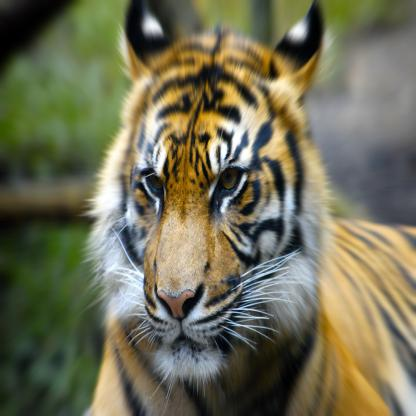tiger: (79, 21, 322, 347)
